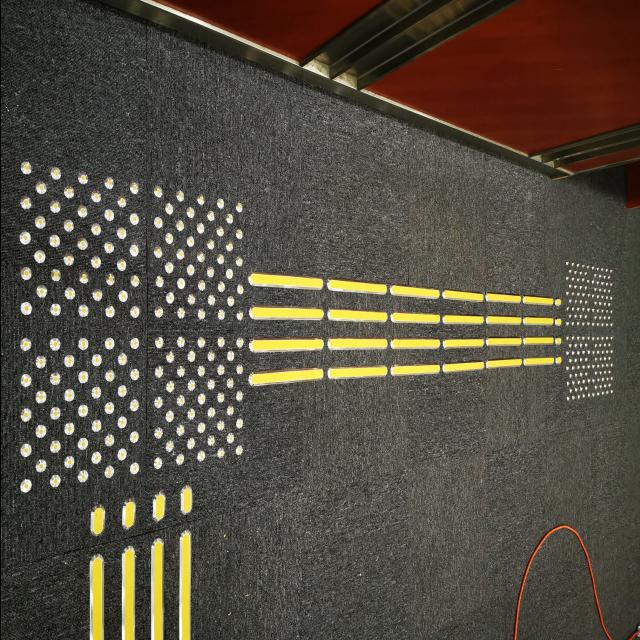tactile-guide-path: (18, 157, 246, 497), (246, 270, 561, 386), (83, 490, 194, 639), (559, 266, 613, 400)
